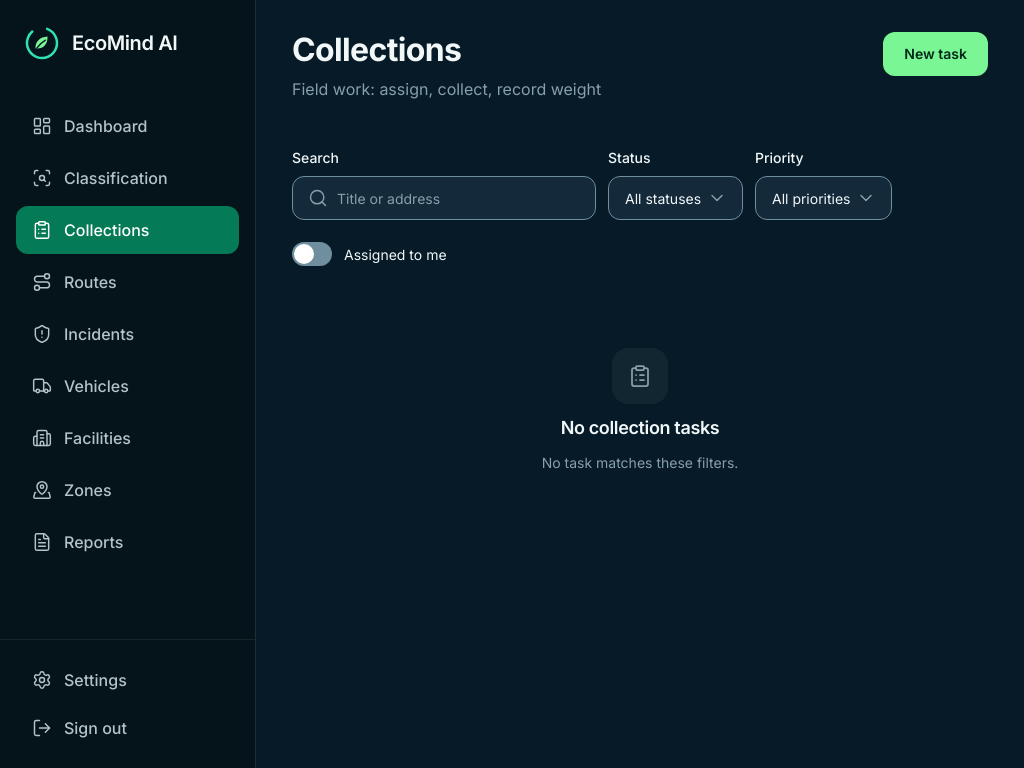
waste reports › shows the server refusal when a report is not verified for task creation
Click the button "New task" at [936, 54], box [883, 32, 988, 76]
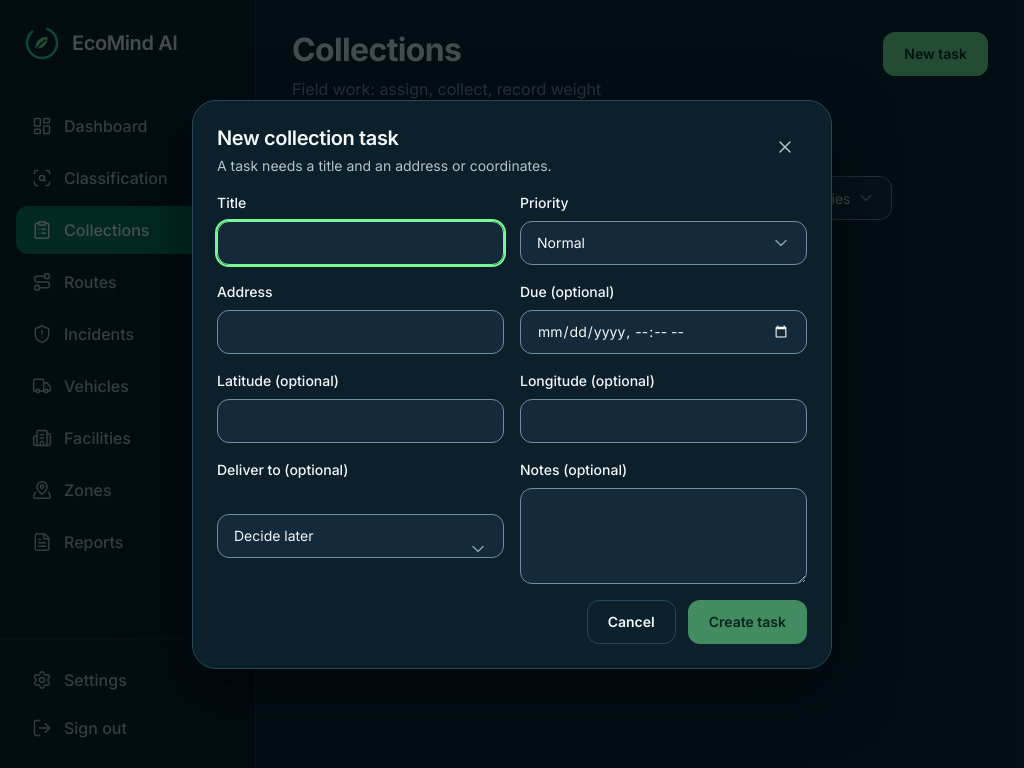
Check: the button "Create task" is disabled, box [688, 600, 807, 644]
Type "Pick up bags" into the field labelled "Title" at [360, 242], box [217, 220, 504, 264]
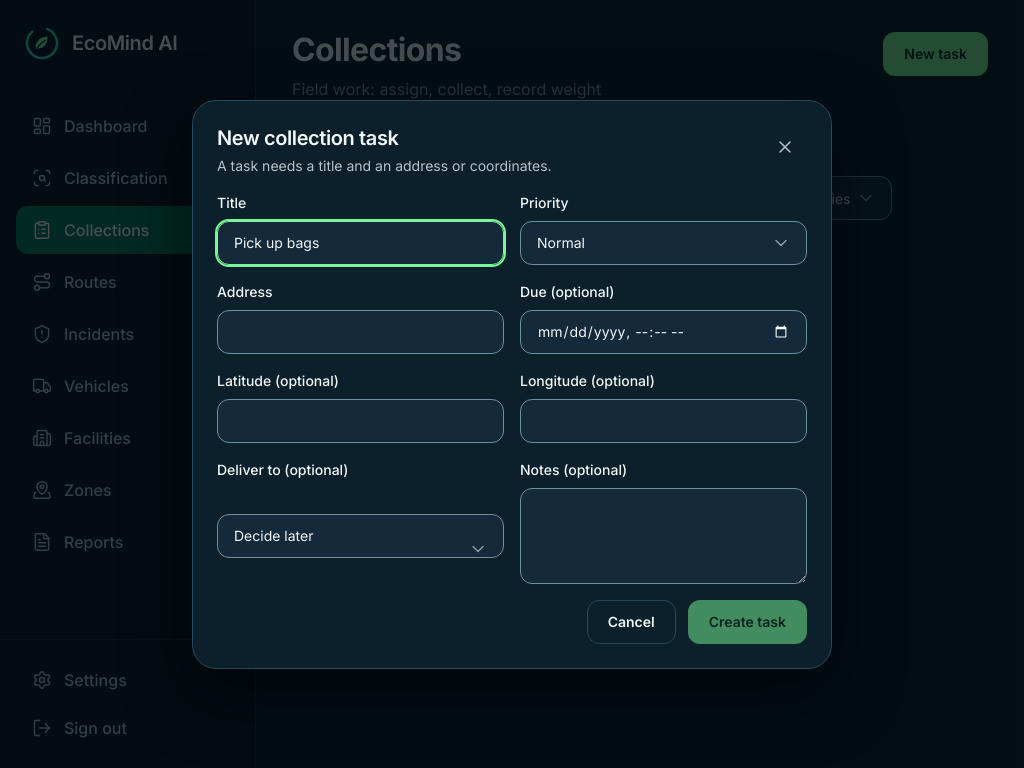
Type "Gate 2" into the field labelled "Address" at [360, 332], box [217, 310, 504, 354]
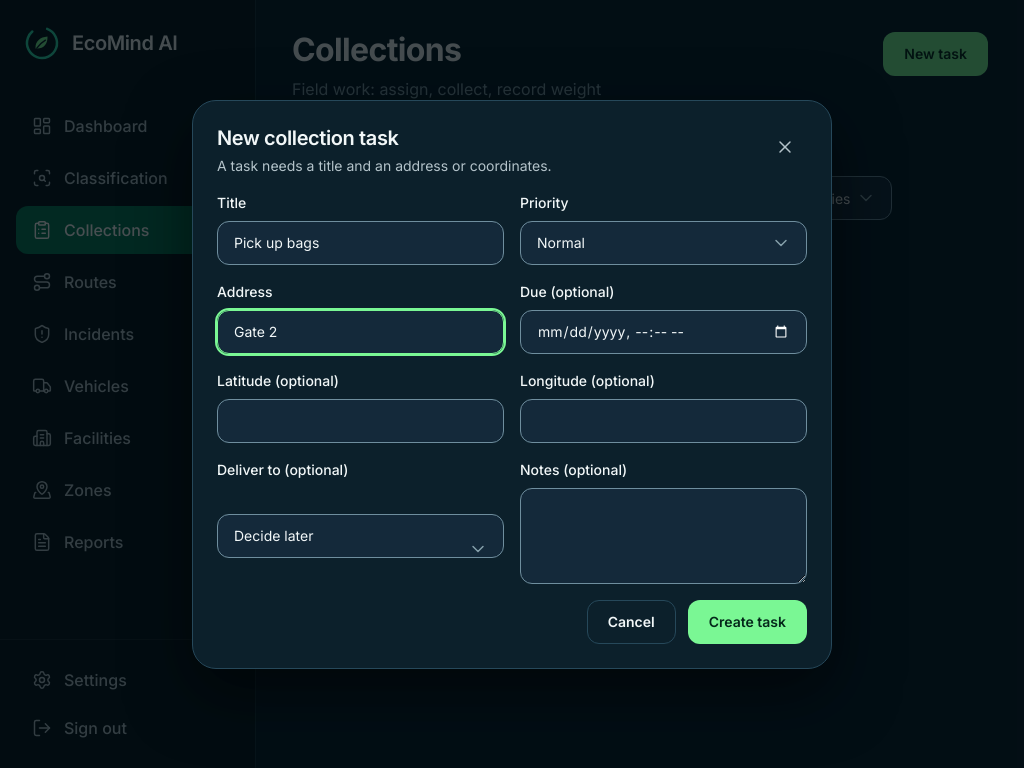
Click the button "Create task" at [747, 622], box [688, 600, 807, 644]
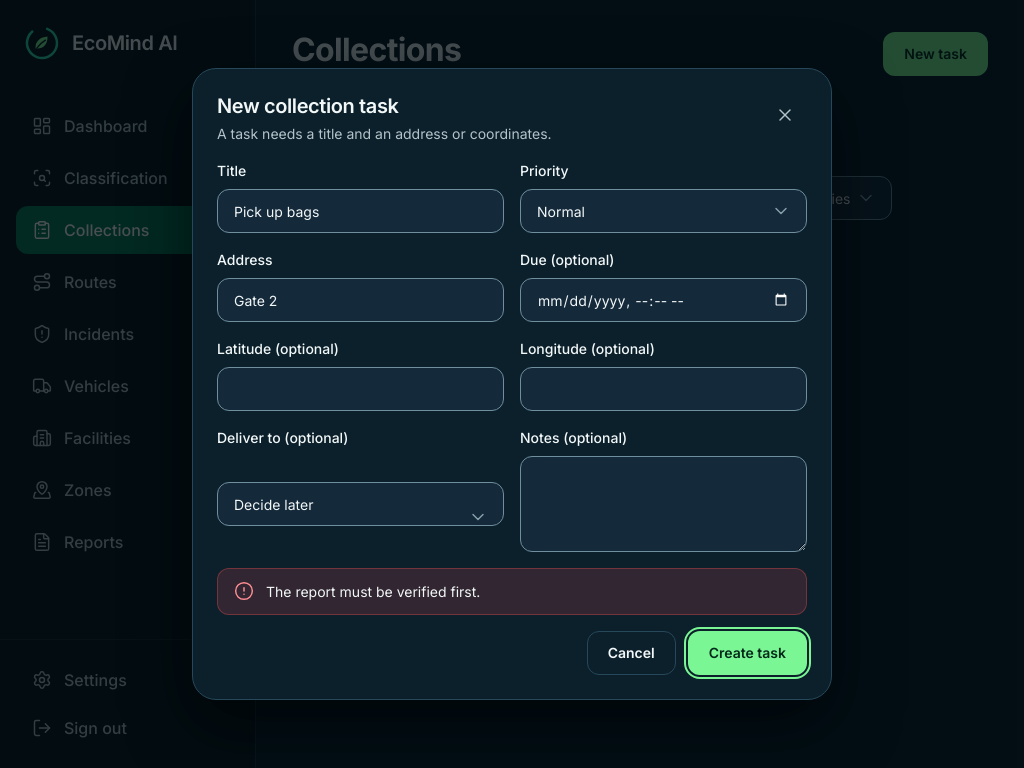
Check: the text "The report must be verified first." is shown, box [266, 581, 480, 602]
